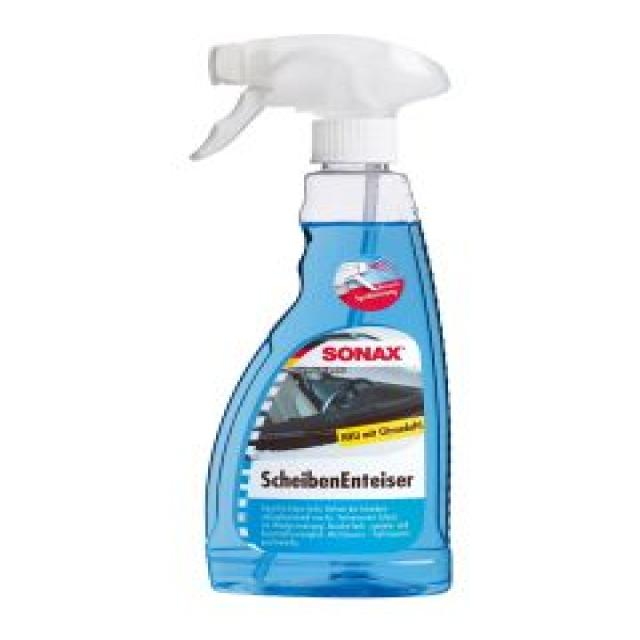winwinshield_washer: (188, 30, 458, 599)
